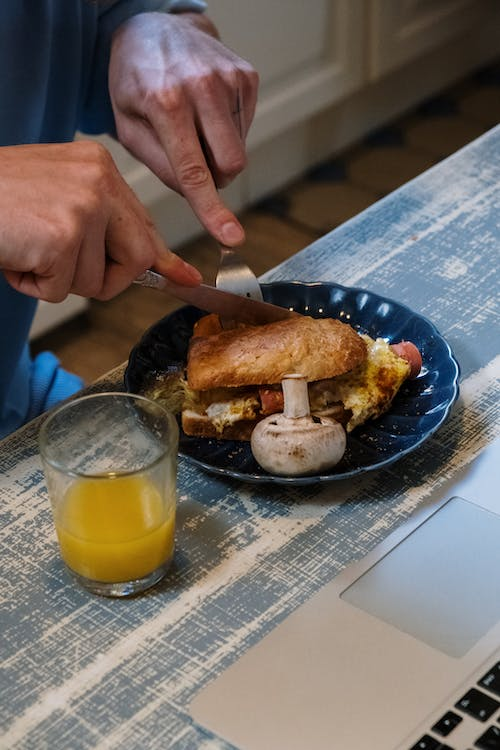knife: (130, 268, 304, 329)
